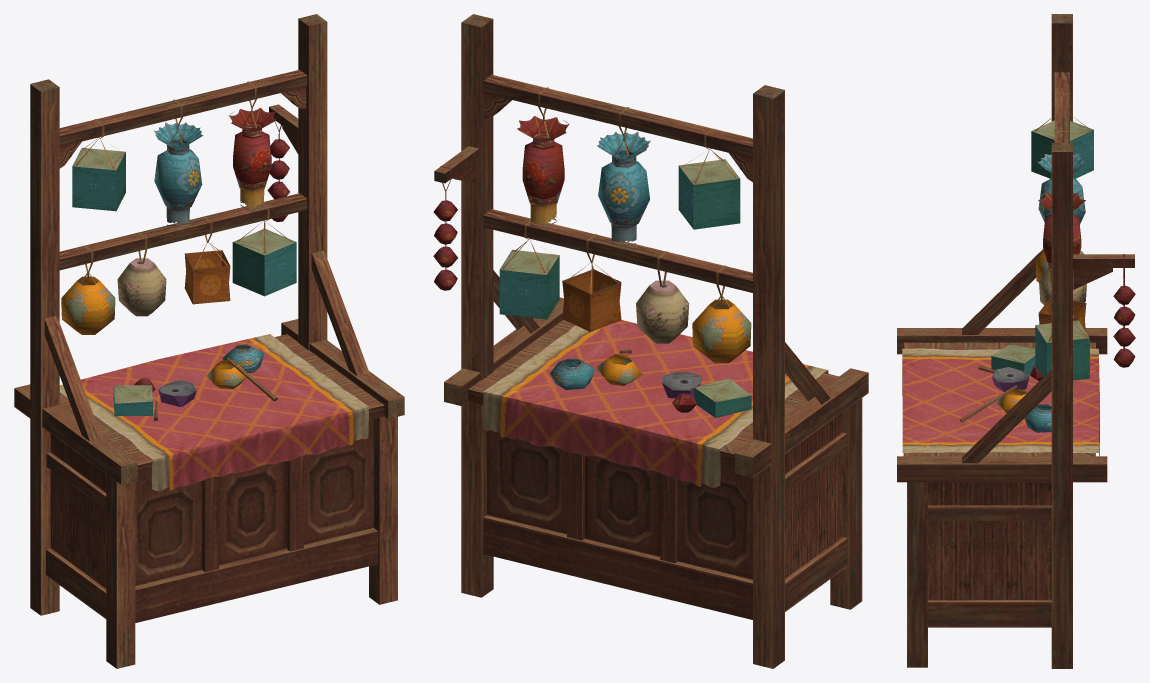
File: 1004_Item_puzi_1.FBX
3 views of the same model, side by side, from view 1: azimuth 30°, elevation 25°; view 2: azimuth 150°, elevation 25°; view 3: azimuth 270°, elevation 25° (orthographic). The views are drawn at different scales.
Parts seen in each view (by area): view 1: 1004_Item_puzi_1; view 2: 1004_Item_puzi_1; view 3: 1004_Item_puzi_1.
Boxes of the visible parts, box(x1,y1,x2,y2) form: 1004_Item_puzi_1: box(14, 14, 404, 668); 1004_Item_puzi_1: box(433, 14, 868, 668); 1004_Item_puzi_1: box(897, 14, 1135, 668).
Bounding box in the file's own units: 121 × 88.33 × 211.
